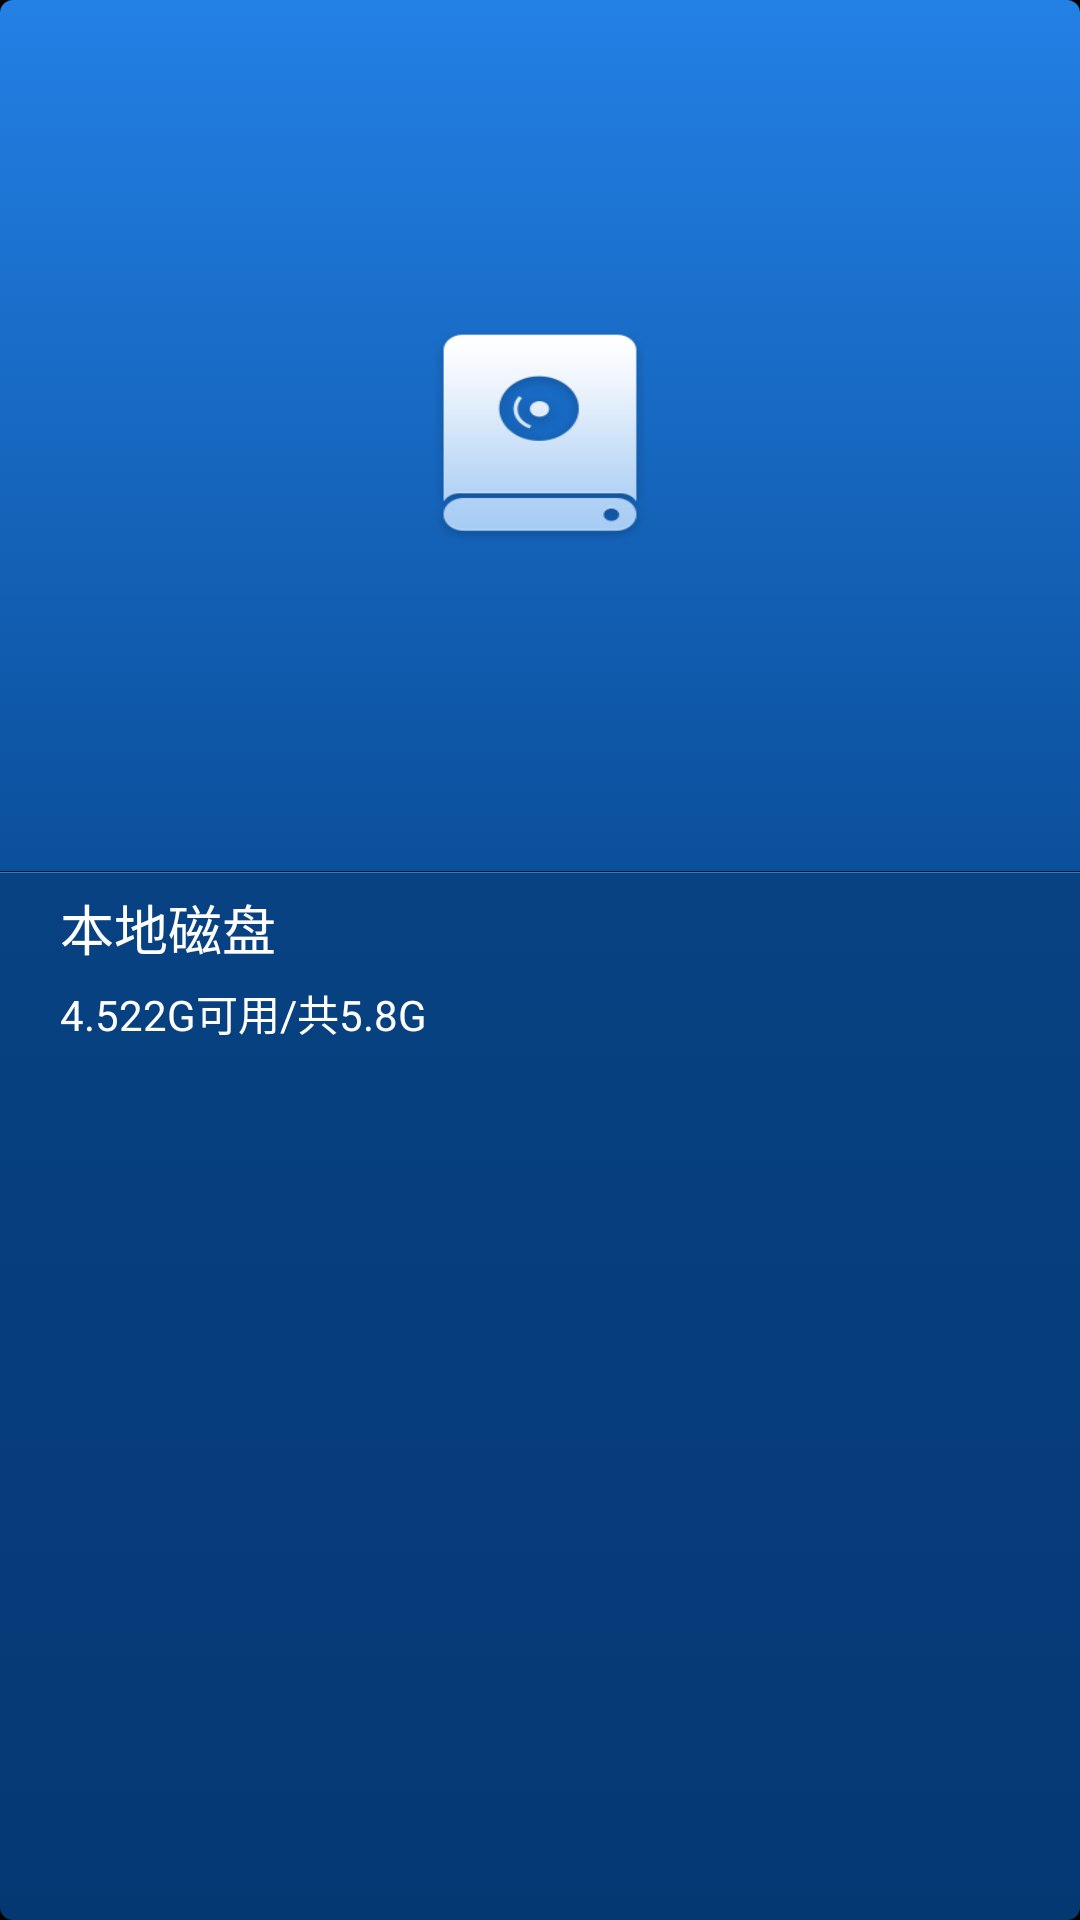

Locate icon controls on the screen. Image size 1080*1920, boxes as box=[x1, y1, x2, y2].
disk: box=[441, 334, 639, 538]
